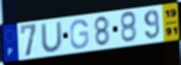7: (19, 23, 38, 58)
8: (119, 10, 138, 45), (93, 15, 112, 48)
9: (142, 9, 161, 41)
G: (69, 18, 90, 50)
U: (39, 20, 64, 53)
